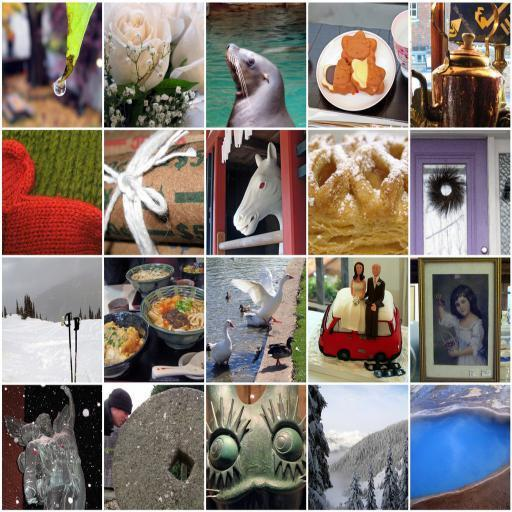horse: (232, 138, 284, 256)
